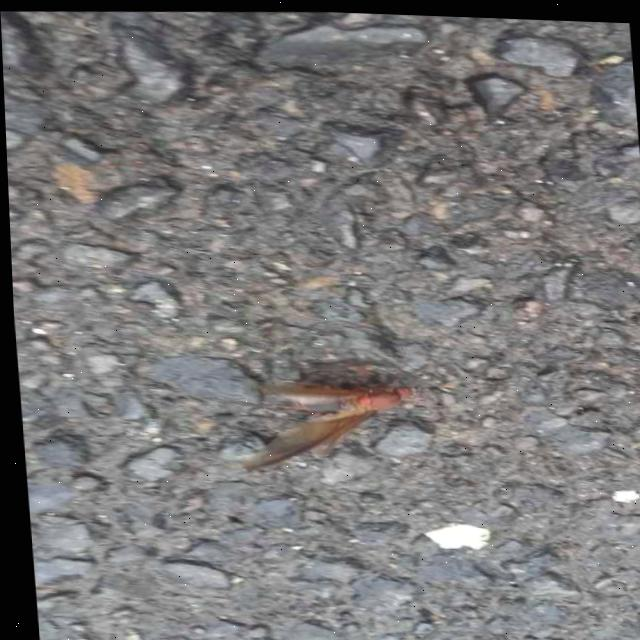Alive-Female-Alate: (231, 346, 456, 473)
